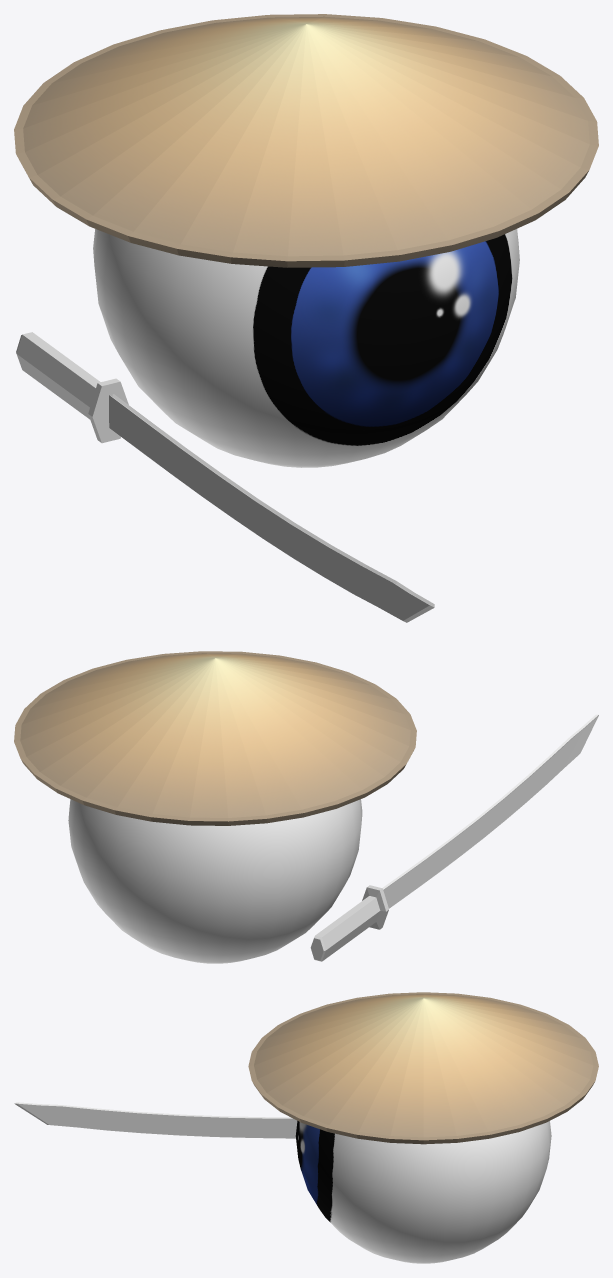
File: Ally2.fbx
3 renders of one model, top to bottom at view 1: azimuth 30°, elevation 25°; view 2: azimuth 150°, elevation 25°; view 3: azimuth 270°, elevation 25°, orthographic. The views are drawn at different scales.
Visible parts, largest first — view 1: Ally2, Katana; view 2: Ally2, Katana; view 3: Ally2, Katana.
Part boxes in pixels (left/top/right/bottom): Ally2: left=14, top=14, right=598, bottom=467; Katana: left=16, top=332, right=434, bottom=622; Ally2: left=14, top=651, right=416, bottom=963; Katana: left=310, top=714, right=598, bottom=961; Ally2: left=248, top=992, right=598, bottom=1263; Katana: left=14, top=1102, right=297, bottom=1138.
Bounding box in the file's own units: 411 × 328 × 686.
